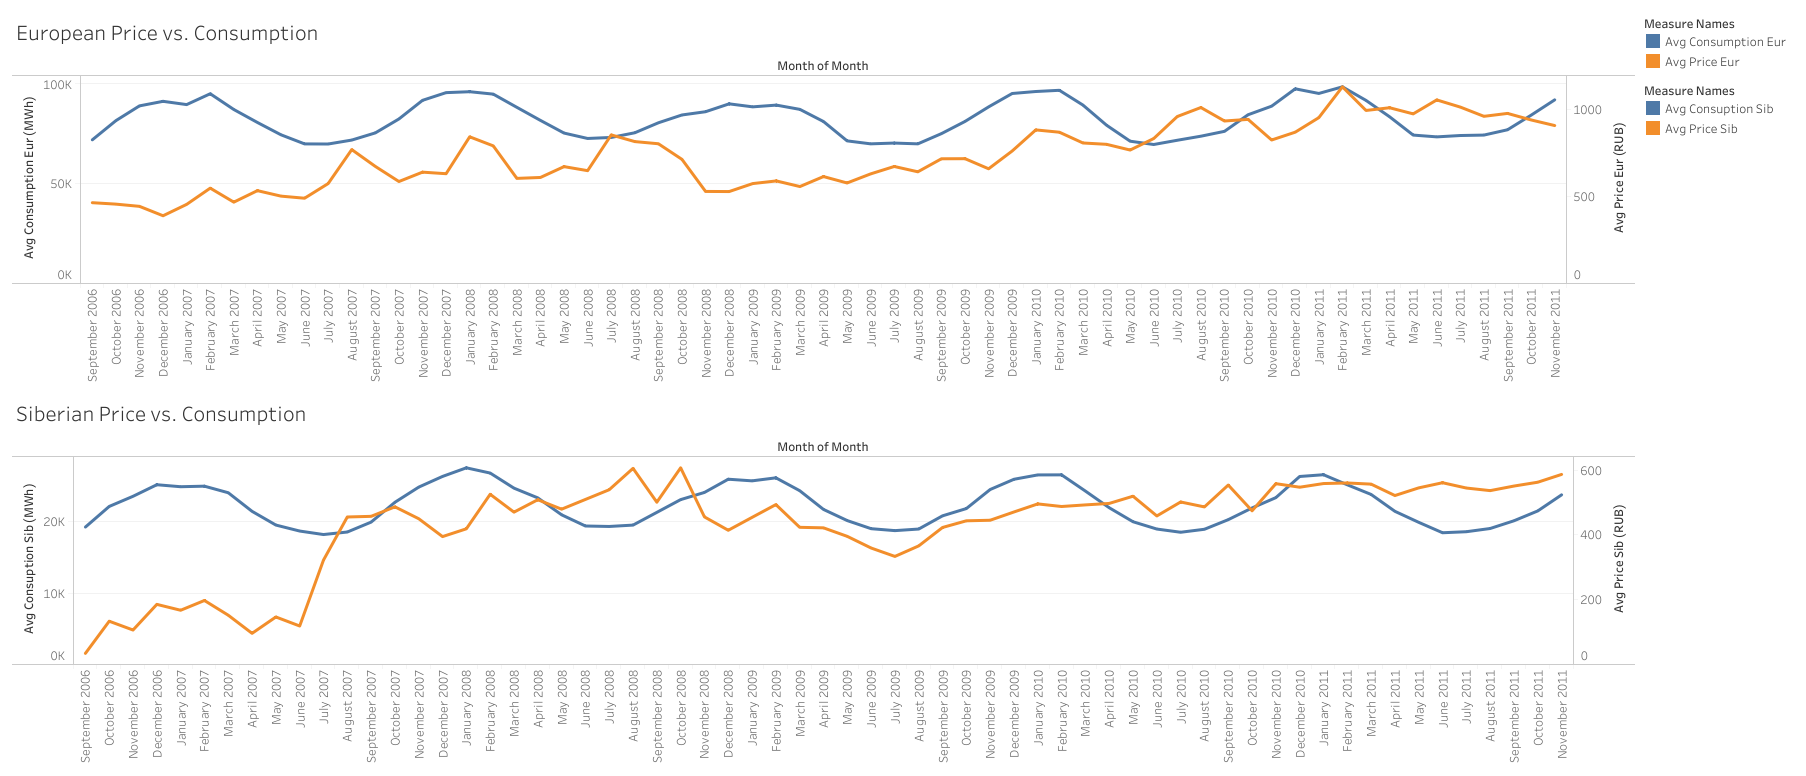

Layout of this report page (visuals, bound fields, positions):
{"tool":"tableau","page":{"name":"Dashboard 1","canvas":[1000,1000],"units":"permille","ordinal":0},"visuals":[{"type":"worksheet","title":"Sheet 1","mark":"Automatic","rows":["volatility_index"],"cols":["month"],"box":[4.1,6.8,909.3,493.2]},{"type":"legend","title":"Sheet 1","param":"[federated.1ofyf1b0hrd7kf1b59lzm074dguj].[none:region:nk]","box":[913.4,6.8,82.5,157.3]},{"type":"legend","title":"Sheet 2","param":"[federated.121jmtw1icwjbt1cwyzr80yp3v4g].[none:region:nk]","box":[913.4,164.1,82.5,93.2]},{"type":"worksheet","title":"Sheet 2","mark":"Automatic","rows":["volatility_index"],"cols":["month"],"box":[4.1,500,909.3,493.2]}]}

Visuals, with their boxes on the dashboard's canvas, which has no fixed pixel size, in thousandths of its width and height (x1, y1, x2, y2). These are canvas units, not pixel positions in the 1806x776 screenshot, which may show the page scaled, cropped or inside an application window:
"Sheet 1" worksheet: x1=4 y1=7 x2=913 y2=500
"Sheet 1" legend: x1=913 y1=7 x2=996 y2=164
"Sheet 2" legend: x1=913 y1=164 x2=996 y2=257
"Sheet 2" worksheet: x1=4 y1=500 x2=913 y2=993
